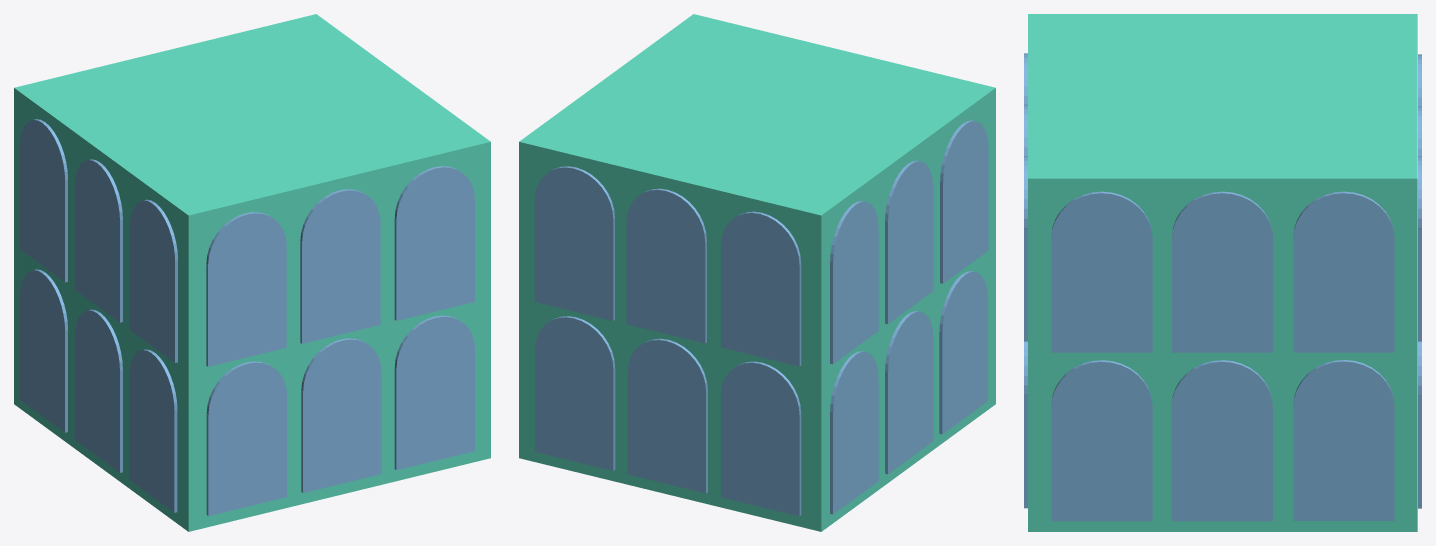
The model's file is officebuildingmidsection.glb.
3 views of the same model, side by side, from view 1: azimuth 30°, elevation 25°; view 2: azimuth 150°, elevation 25°; view 3: azimuth 270°, elevation 25° (orthographic). The views are drawn at different scales.
Visible parts, largest first — view 1: Cube, Cube.013, Cube.017, Cube.015, Cube.016, Cube.018, Cube.014, Cube.020, Cube.022, Cube.023, Cube.019, Cube.024 (+1 smaller); view 2: Cube, Cube.007, Cube.012, Cube.011, Cube.010, Cube.008, Cube.009, Cube.019, Cube.022, Cube.024, Cube.021, Cube.020 (+1 smaller); view 3: Cube, Cube.003, Cube.005, Cube.001, Cube.002, Cube.004, Cube.006, Cube.007, Cube.013, Cube.012, Cube.016.
Part boxes in pixels (x1,y1,x2,y2): Cube: [14, 14, 490, 531]; Cube.013: [394, 166, 474, 320]; Cube.017: [301, 338, 381, 492]; Cube.015: [206, 212, 286, 366]; Cube.016: [394, 315, 474, 470]; Cube.018: [206, 361, 286, 516]; Cube.014: [300, 189, 380, 343]; Cube.020: [74, 159, 122, 322]; Cube.022: [19, 269, 67, 432]; Cube.023: [74, 309, 122, 472]; Cube.019: [129, 199, 177, 362]; Cube.024: [129, 349, 177, 512]; Cube: [519, 14, 995, 531]; Cube.007: [534, 166, 614, 320]; Cube.012: [535, 316, 615, 470]; Cube.011: [627, 338, 707, 493]; Cube.010: [721, 361, 801, 516]; Cube.008: [626, 188, 706, 343]; Cube.009: [721, 211, 801, 366]; Cube.019: [940, 120, 988, 283]; Cube.022: [830, 351, 878, 514]; Cube.024: [939, 271, 987, 434]; Cube.021: [830, 201, 878, 364]; Cube.020: [885, 160, 933, 323]; Cube: [1028, 14, 1417, 531]; Cube.003: [1051, 360, 1152, 521]; Cube.005: [1171, 360, 1272, 521]; Cube.001: [1172, 191, 1273, 352]; Cube.002: [1293, 191, 1394, 352]; Cube.004: [1051, 191, 1152, 352]; Cube.006: [1293, 360, 1394, 520]; Cube.007: [1418, 156, 1421, 341]; Cube.013: [1024, 156, 1027, 341]; Cube.012: [1418, 341, 1421, 508]; Cube.016: [1024, 341, 1027, 508].
Size of the model in its own units: 2.04 by 2 by 2.04.
